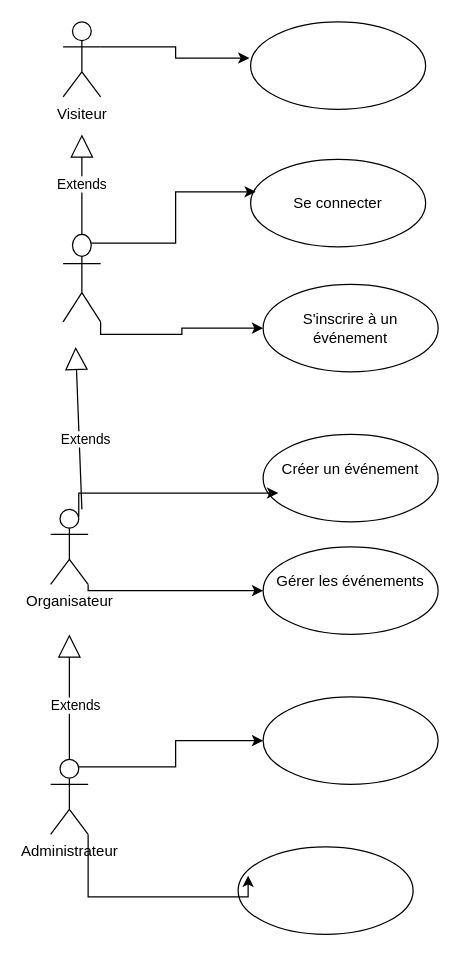
This 460x956 diagram has some shape labels left out. Each missing label, with the centre of its shape:
"Attribuer des rôles" belongs at (325,890).
"Joueur" belongs at (81,277).
"Modérer les événements" belongs at (350,740).
"S'inscrire" belongs at (337,65).
